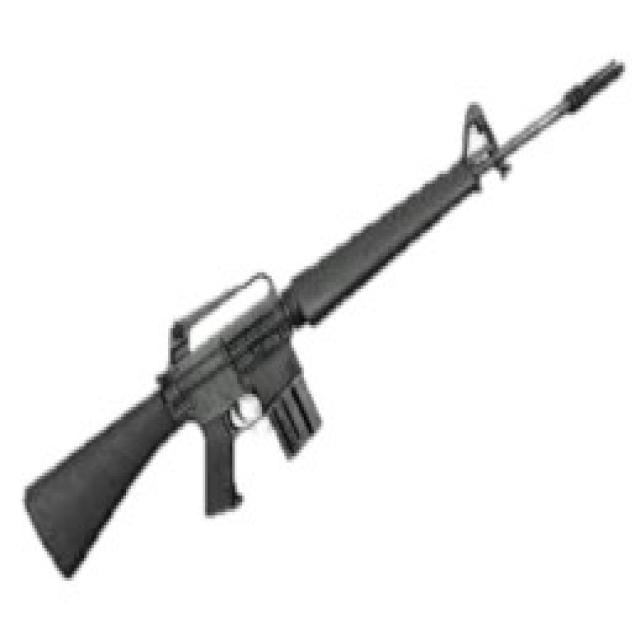rifle: (23, 52, 631, 595)
